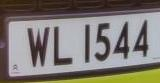1: (79, 18, 96, 68)
4: (112, 14, 133, 68), (131, 13, 152, 66)
5: (92, 18, 115, 66)
L: (50, 22, 77, 71)
W: (26, 21, 52, 71)
